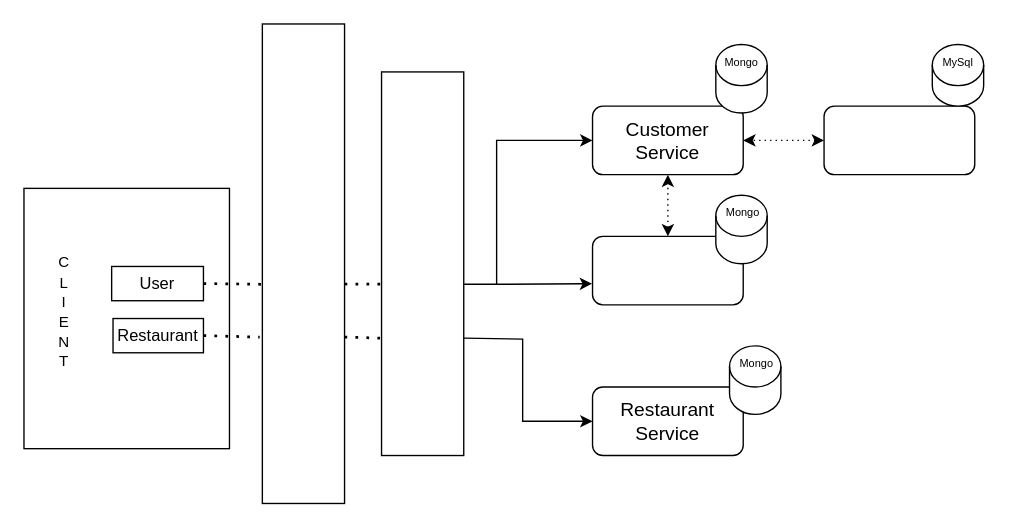
Image size: 1010x527. Some labels were removed from this diagram. Here are the shapes that lost their labels. From the top down, the centre of each, then its label:
At (899,140): "User Authentication".
At (303,263): "A P I G A T E A W A Y".
At (422,263): "E U R E K A S E R V E R".
At (667,270): "Order Service".
